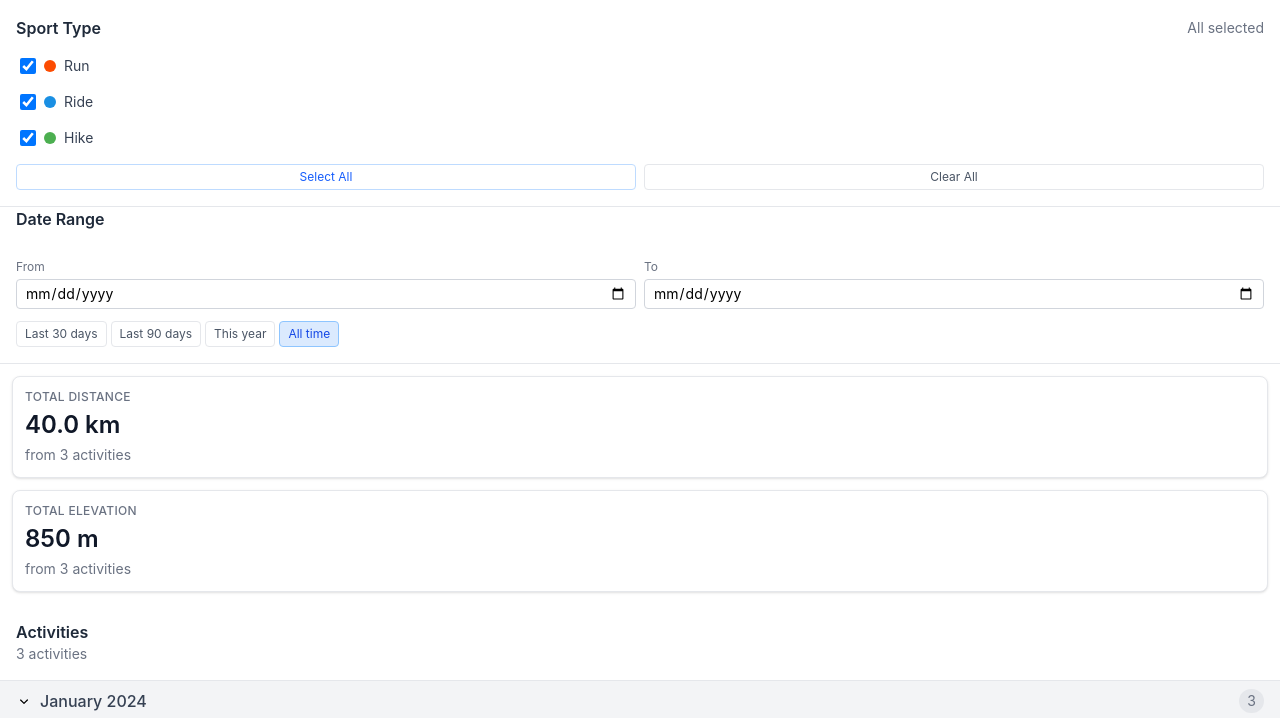
Test case: SidebarPanel › filters activities when sport type is toggled off
Click the checkbox labelled "Run": (28, 66) [20,58,36,74]
(page scrolled)
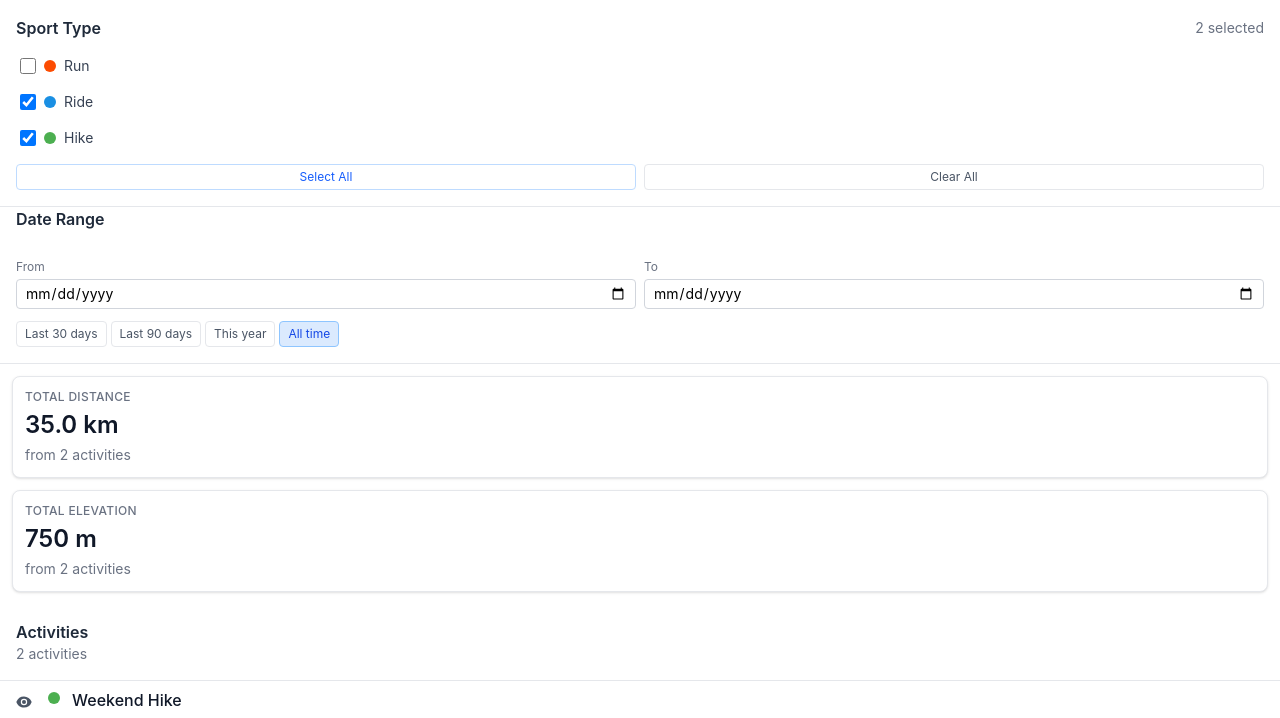
Result: the heading "Weekend Hike" is shown at [72,690,182,710]
